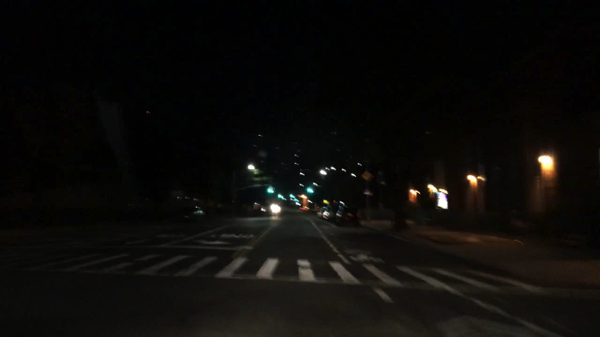car: (334, 204, 362, 226), (180, 205, 206, 223), (321, 205, 338, 220), (251, 204, 267, 218), (316, 205, 327, 218), (270, 204, 281, 213)
traffic light: (267, 184, 273, 194), (306, 183, 312, 192), (288, 191, 293, 198), (277, 191, 281, 198)
traffic sign: (360, 169, 373, 181), (364, 190, 372, 195)
